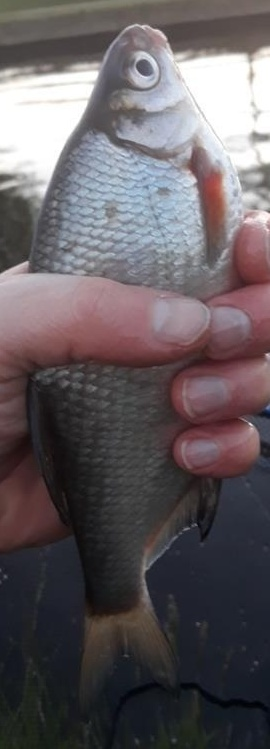Abramis brama: (20, 20, 250, 729)
